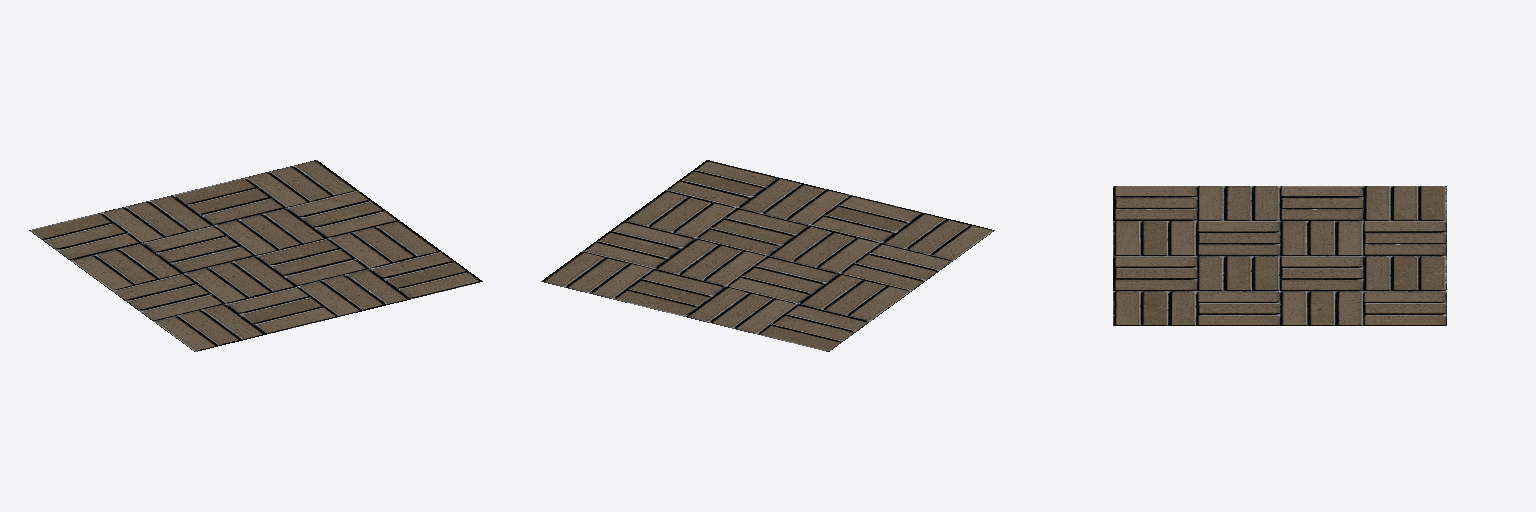
3 views of the same model, side by side, from view 1: azimuth 30°, elevation 25°; view 2: azimuth 150°, elevation 25°; view 3: azimuth 270°, elevation 25° (orthographic).
Visible parts, largest first — view 1: Plane001; view 2: Plane001; view 3: Plane001.
Boxes of the visible parts, <box> form: Plane001: <box>29,160,482,351</box>; Plane001: <box>541,160,994,351</box>; Plane001: <box>1113,186,1446,325</box>.
Bounding box in the file's own units: 5 × 0 × 5.
Materials: 1 (1 with a texture image).